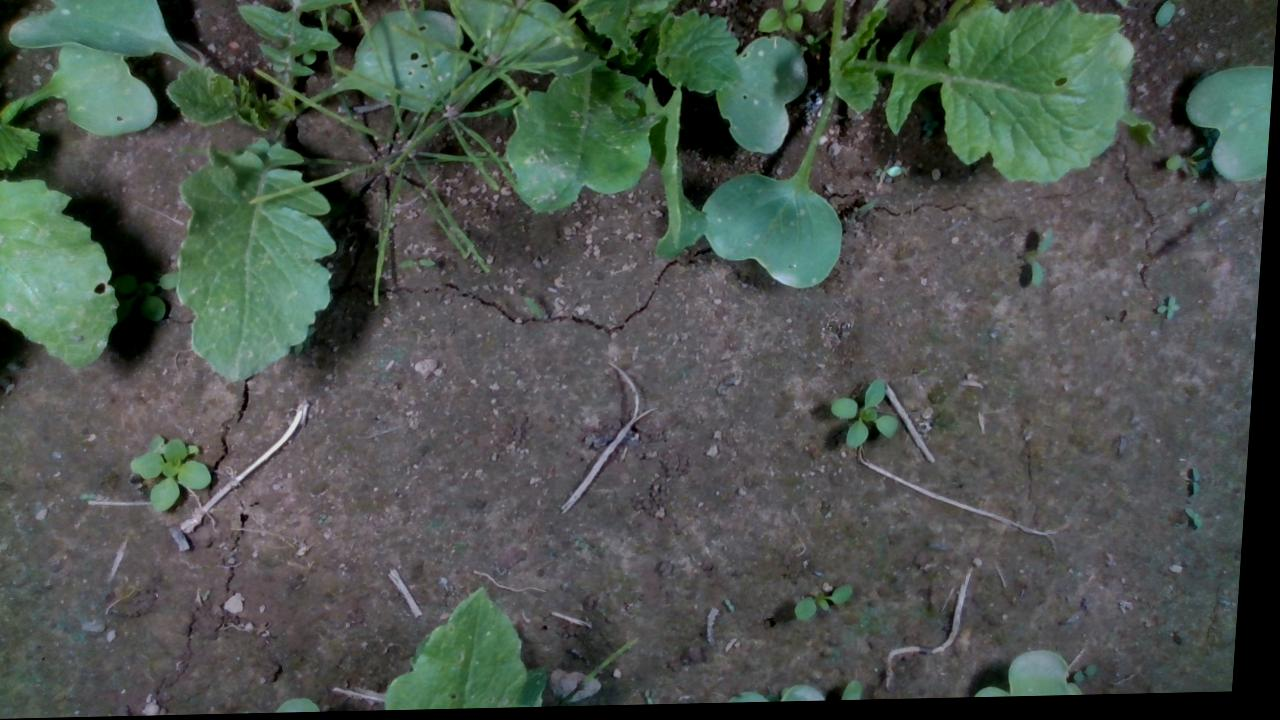weed: (1156, 298, 1185, 326)
